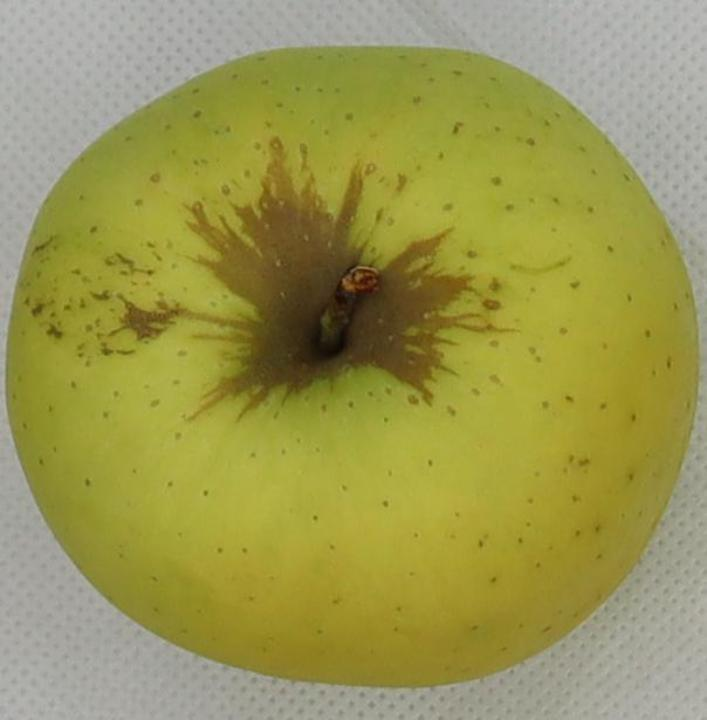apple: (6, 47, 698, 685)
bruise_discoloration: (91, 135, 505, 420)
